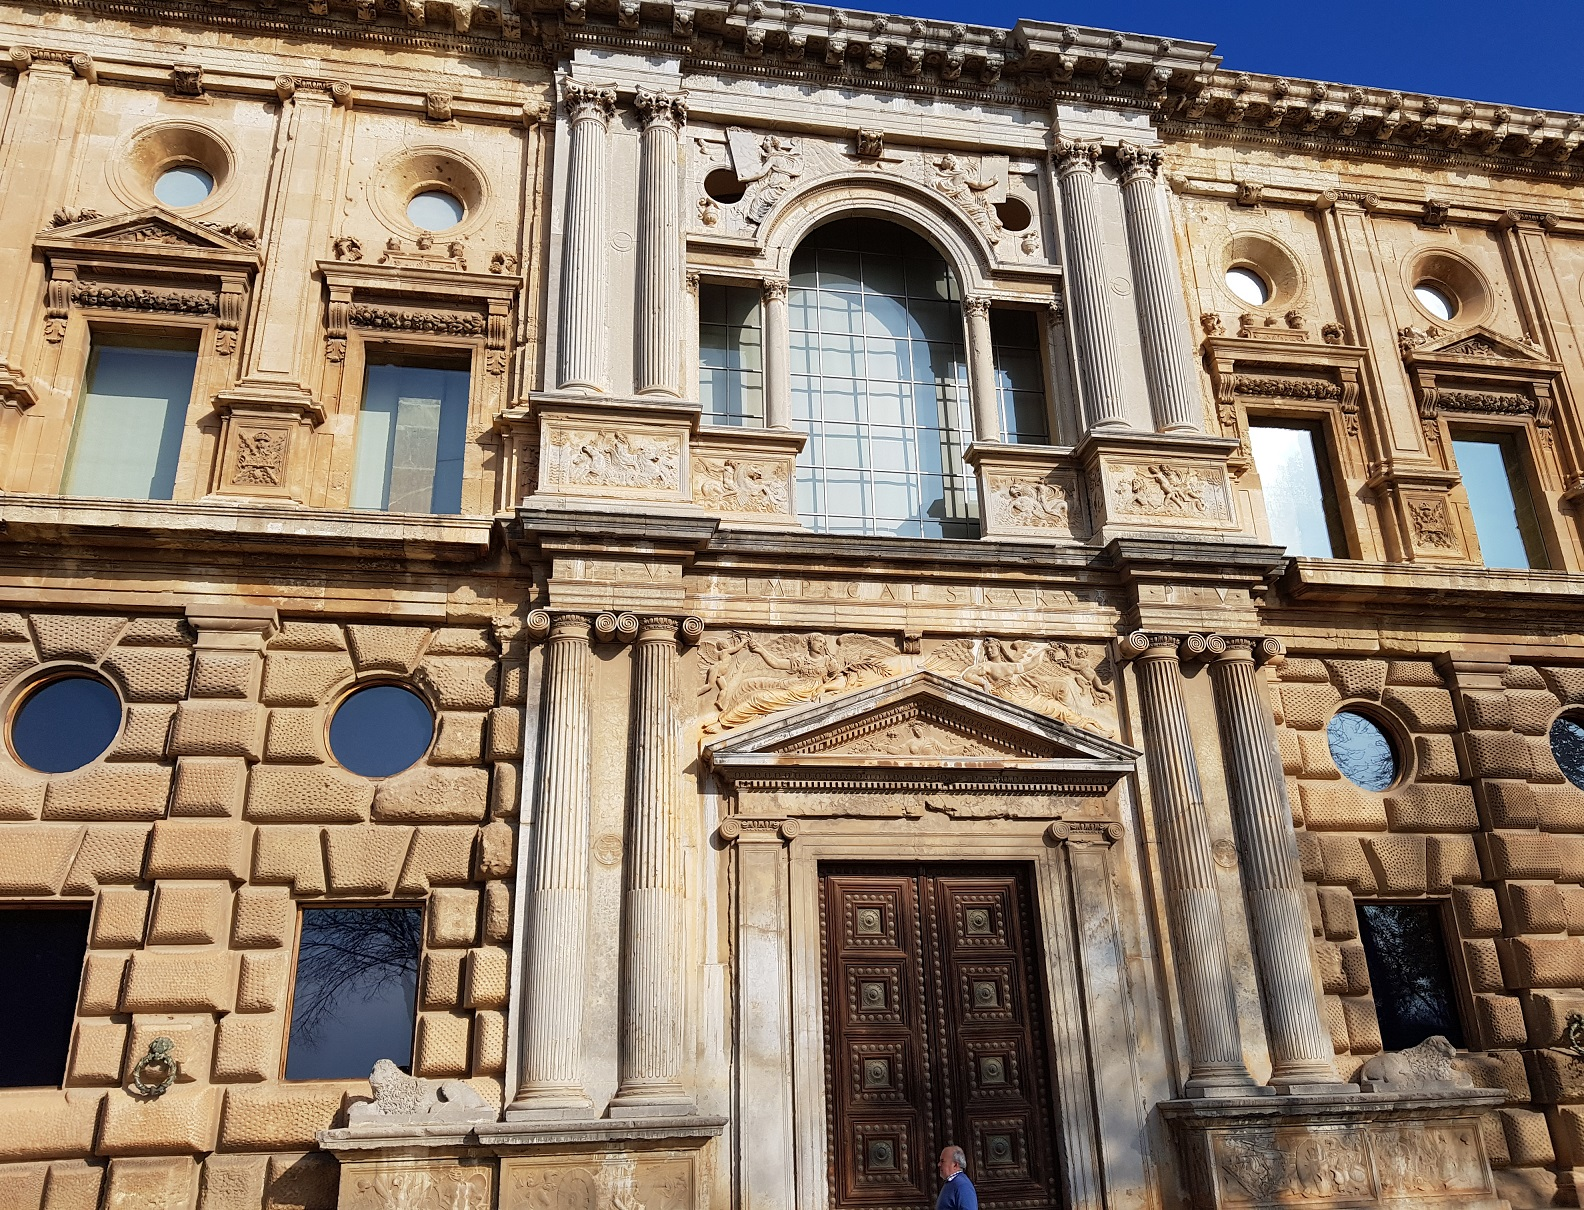fronton: (693, 669, 1142, 782), (28, 200, 257, 273), (1412, 327, 1567, 377)
ojo-de-buey: (1, 646, 133, 783), (311, 661, 444, 778), (367, 144, 495, 238), (108, 121, 233, 210), (1322, 690, 1428, 793), (1398, 247, 1496, 334), (1215, 229, 1301, 316)
serliana: (693, 175, 1074, 454)
vano-adintelado: (783, 816, 1098, 1210), (55, 305, 220, 505), (336, 319, 488, 521), (1226, 391, 1389, 566), (1433, 405, 1576, 573)
